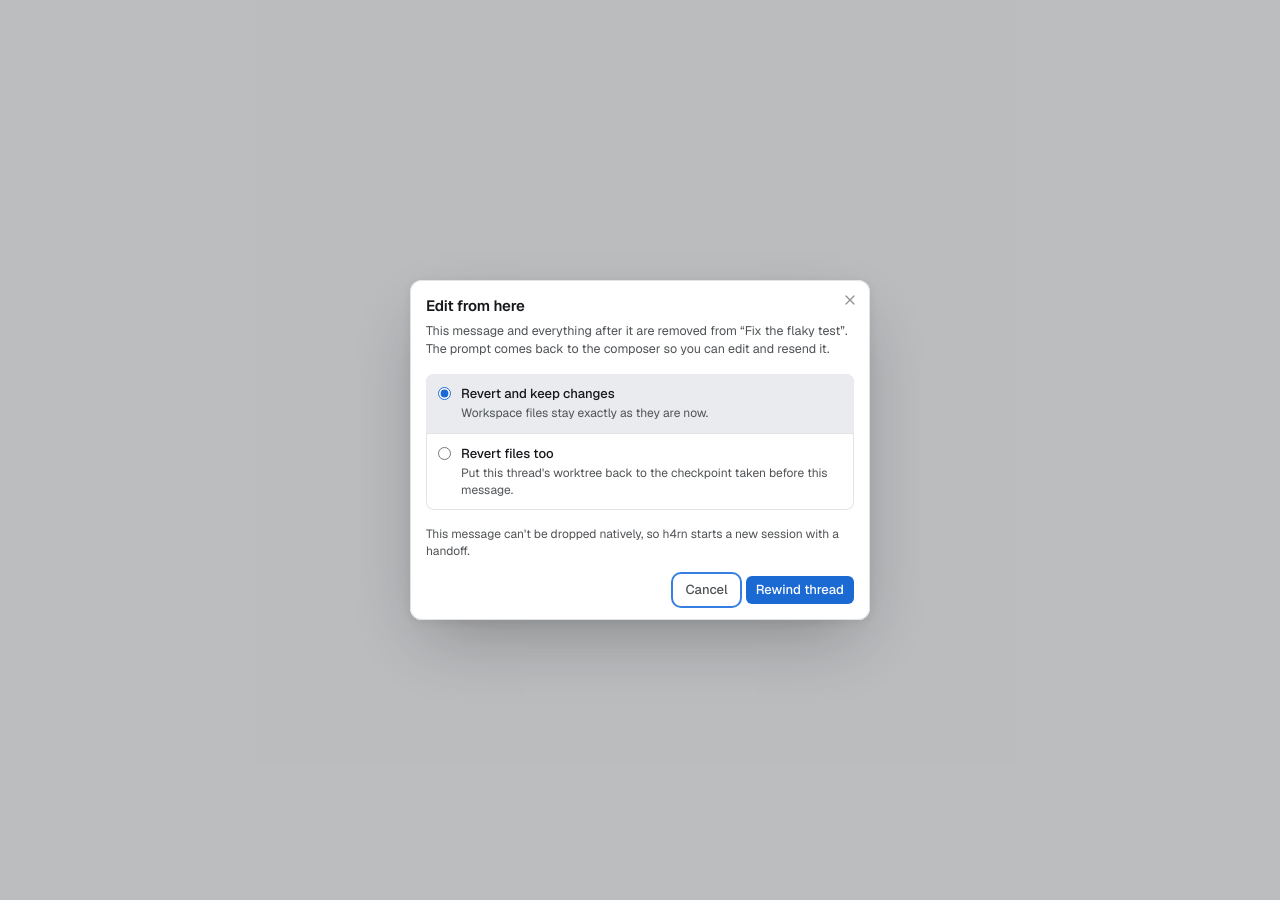
Test: RewindDialog › offers both choices and warns before reverting files
Expected: the text "Revert and keep changes" is shown, [461,385,615,402]
Expected: the text "Revert files too" is shown, [461,445,554,462]
Click the radio button labelled "Revert files too" at (444, 454), box [438,447,451,460]
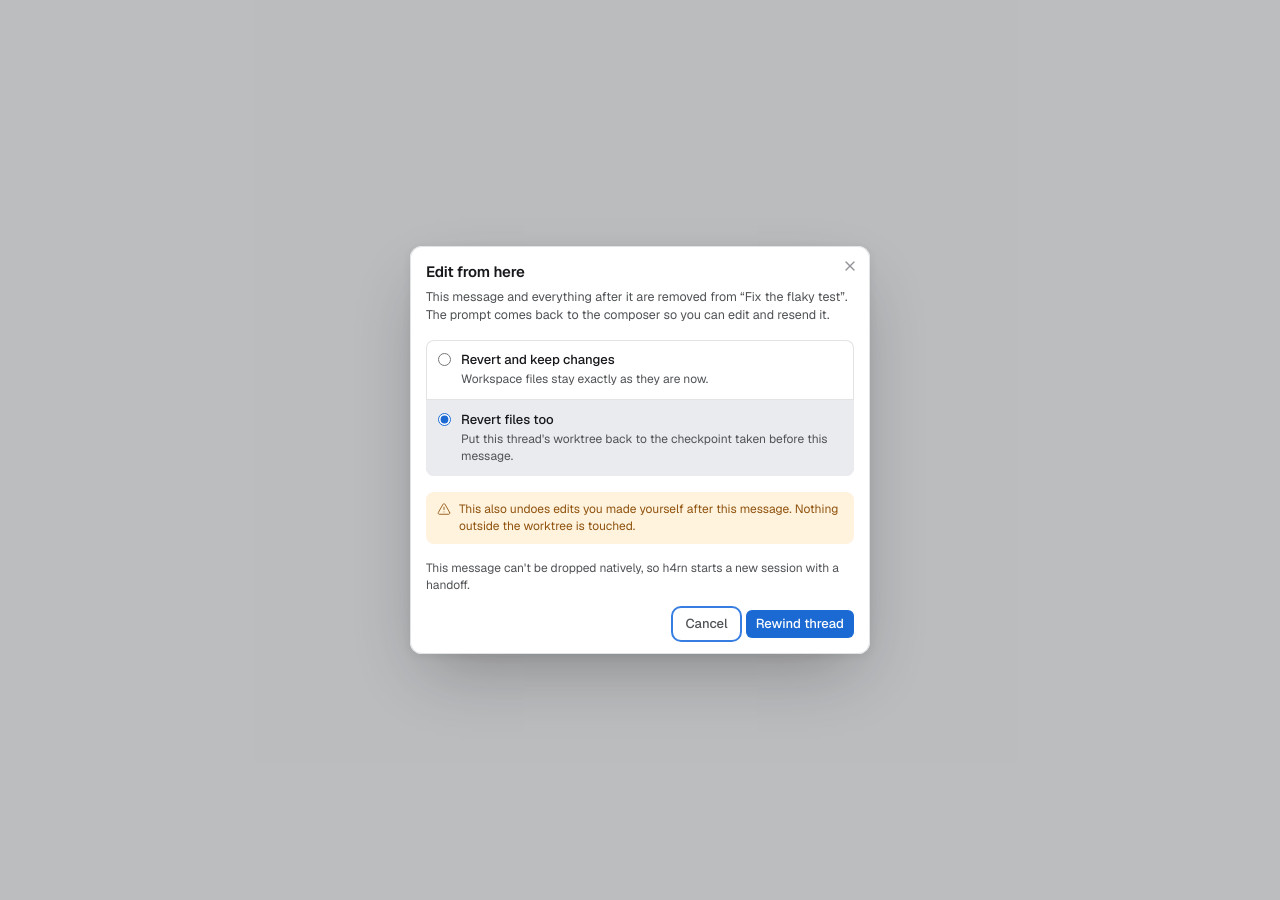
Expected: the text "starts a new session with a handoff" is shown, [426,560,839,593]
Result: the text "also undoes edits you made yourself" is shown at [459,501,838,534]
